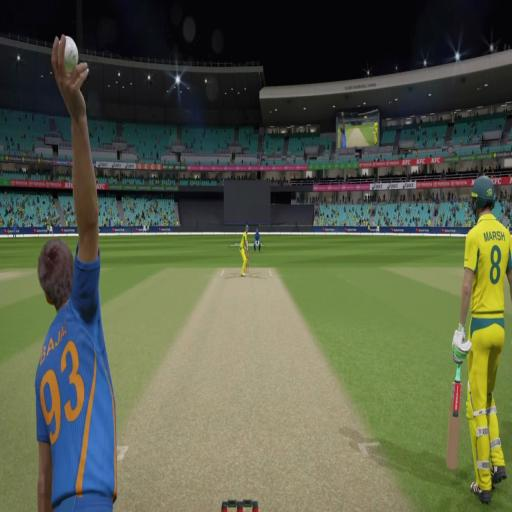ball: (64, 36, 78, 73)
